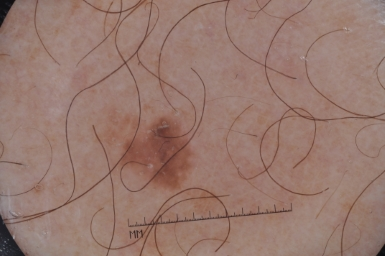seborrheic keratosis: (102, 105, 214, 201)
